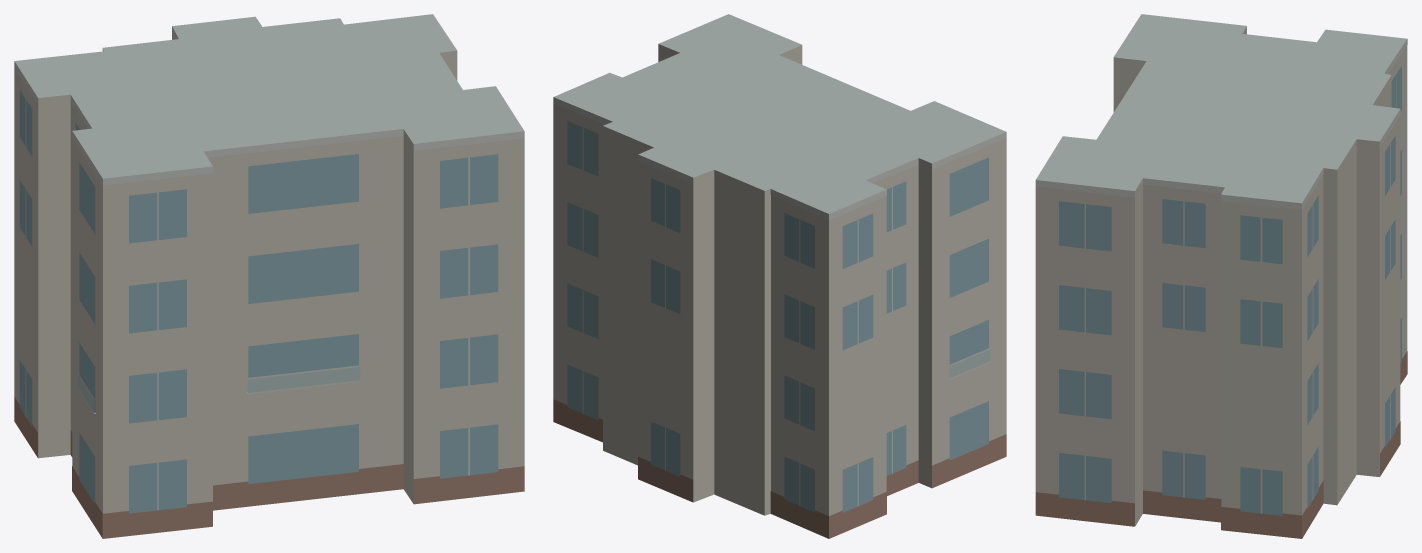
File: survey-upis-32532488.glb
3 renders of one model, left to right at view 1: azimuth 30°, elevation 25°; view 2: azimuth 150°, elevation 25°; view 3: azimuth 270°, elevation 25°, orthographic. The views are drawn at different scales.
Parts seen in each view (by area): view 1: survey-upis-32532488.tmp; view 2: survey-upis-32532488.tmp; view 3: survey-upis-32532488.tmp.
Part boxes in pixels (x1,y1,x2,y2): survey-upis-32532488.tmp: (14, 14, 524, 538); survey-upis-32532488.tmp: (553, 14, 1006, 538); survey-upis-32532488.tmp: (1035, 14, 1407, 538).
Size of the model in its own units: 15.49 by 12.8 by 12.86.
